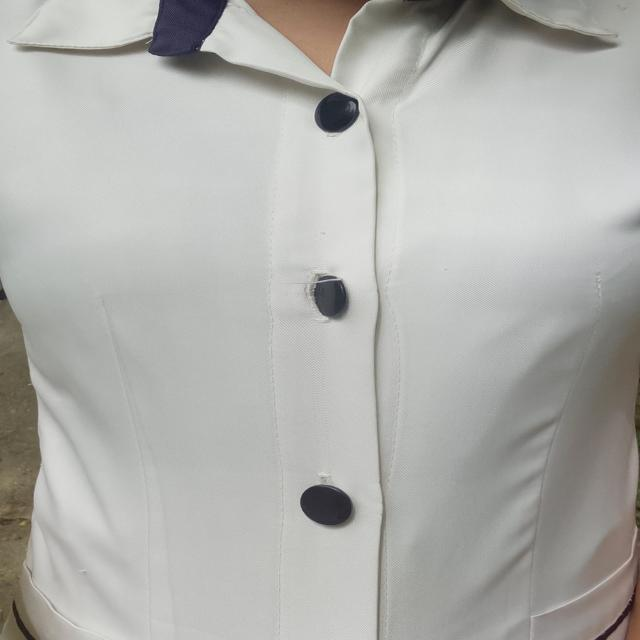education_female_uniform: (4, 1, 640, 635)
